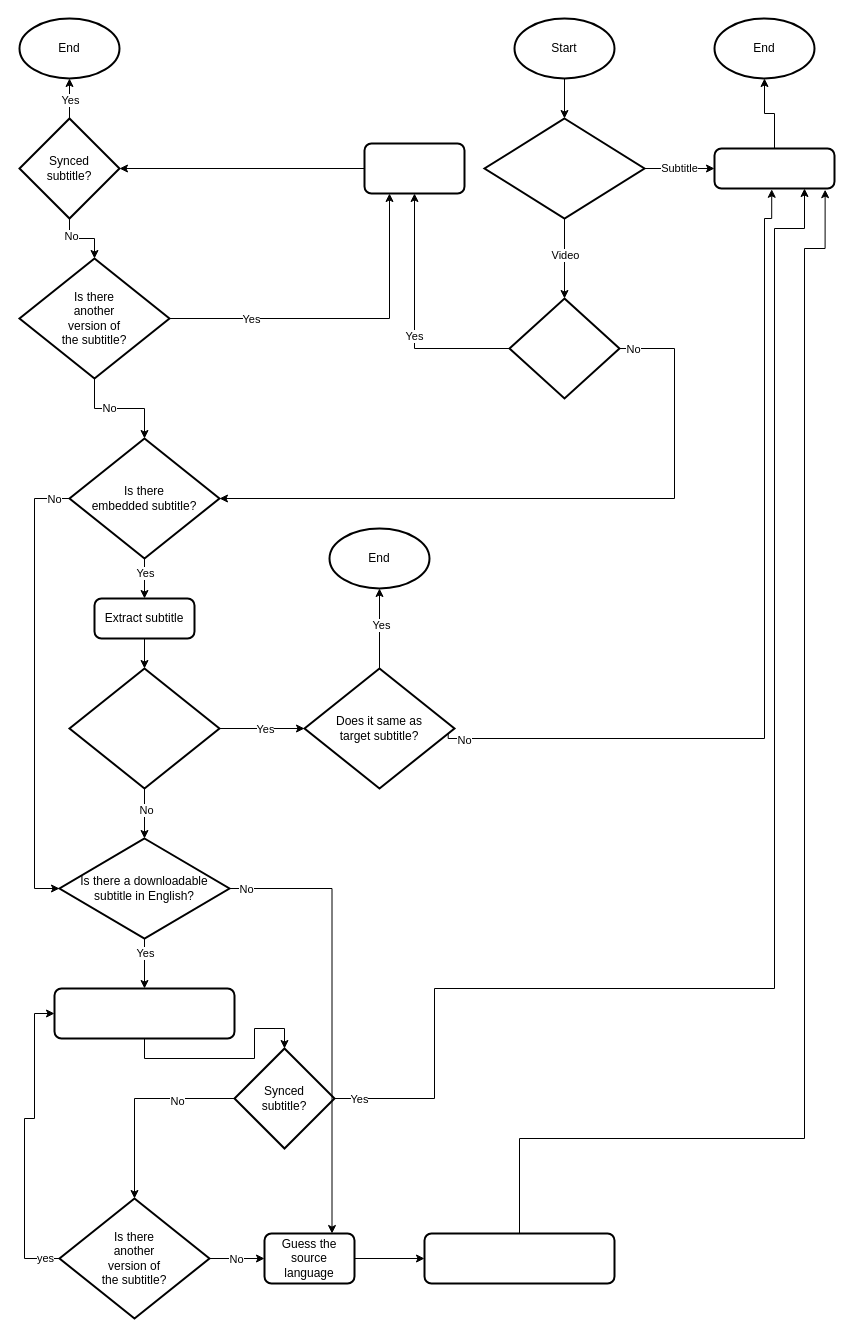
The diagram is 853 pixels wide and 1336 high, and some of its shapes have lost their labels. The shapes that lost their labels are listed below. From the top down, each one's centre as x and y in pixels, then its label:
point 414,168: Download subtitle
point 564,168: Video or Subtitle?
point 774,168: Translate to target language
point 564,348: Is there a downloadable subtitle in target language?
point 144,728: Does it a valid subtitle?
point 144,1013: Download English subtitle
point 519,1258: Apply STT to target language
